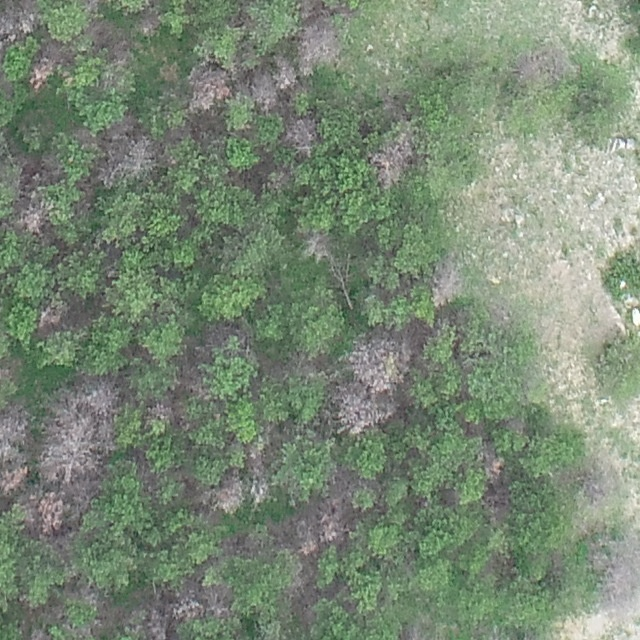unhealthy: (36, 378, 120, 482), (345, 327, 413, 396), (593, 537, 638, 601), (365, 133, 415, 186), (512, 42, 575, 83), (580, 448, 624, 503), (330, 395, 381, 441), (115, 130, 160, 181), (186, 62, 230, 113), (295, 23, 341, 71), (0, 399, 34, 456), (429, 256, 462, 307), (0, 0, 39, 42), (281, 114, 319, 157), (35, 490, 69, 533), (212, 470, 244, 513), (317, 499, 346, 545), (246, 65, 273, 114), (481, 485, 511, 522), (37, 299, 69, 332), (0, 464, 30, 499), (477, 446, 506, 481), (29, 50, 55, 89), (19, 204, 49, 236), (303, 228, 333, 259), (168, 597, 203, 623), (274, 55, 298, 92), (88, 158, 115, 189), (0, 355, 22, 389), (144, 608, 167, 640), (249, 478, 277, 504), (398, 619, 429, 640), (107, 39, 132, 65), (136, 12, 160, 36), (146, 400, 174, 420), (79, 0, 105, 12), (28, 628, 53, 640)
